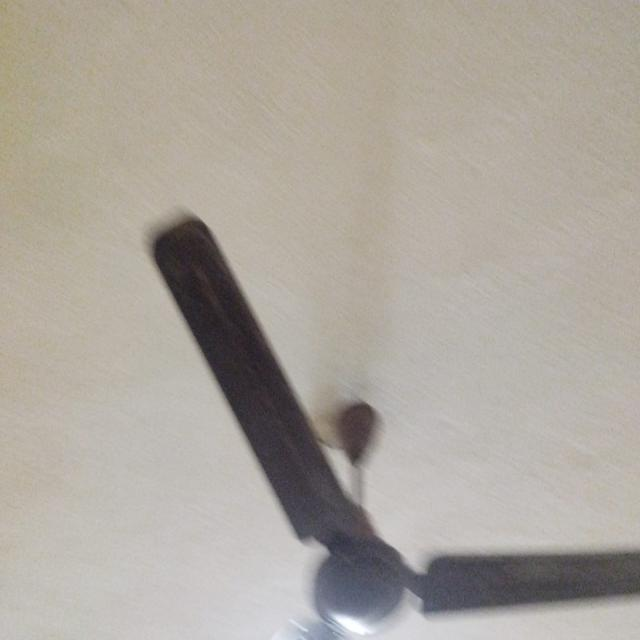fan_off: (153, 215, 640, 640)
